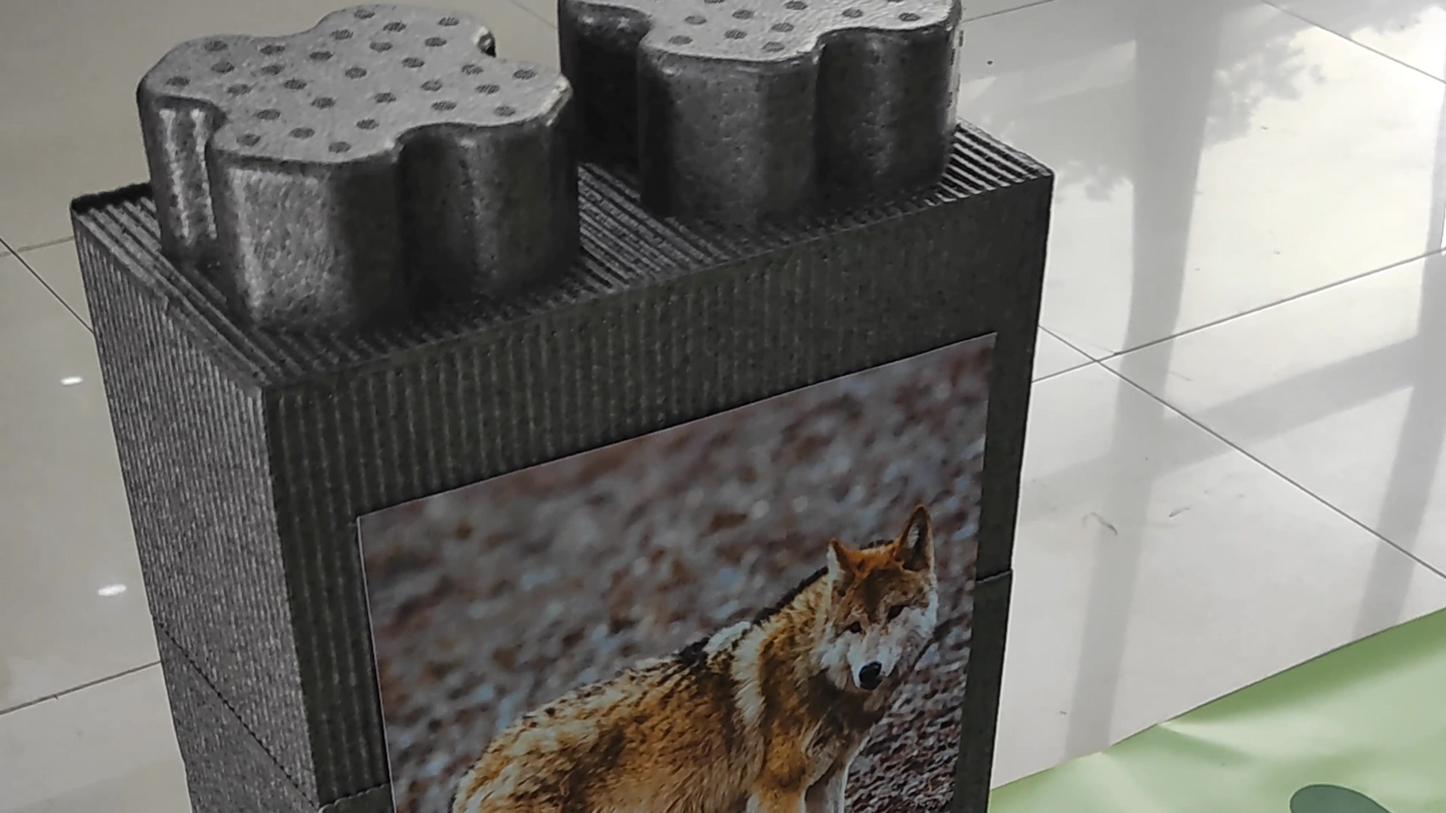wolf: (424, 499, 960, 813)
